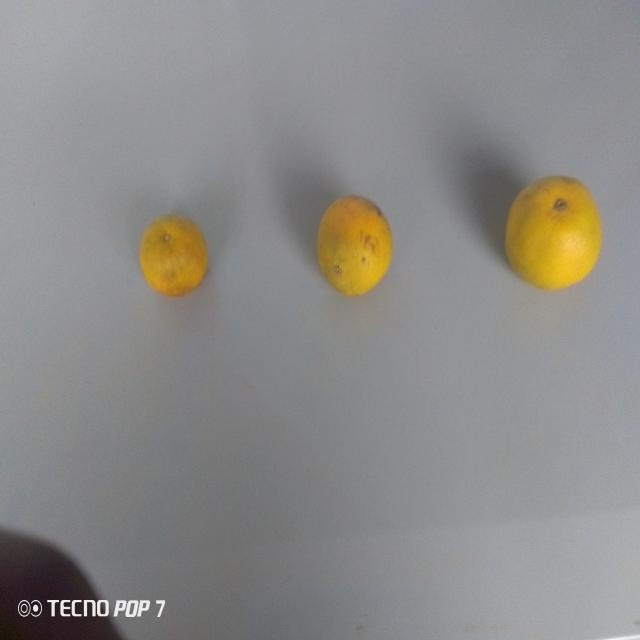agrume: (500, 174, 605, 303), (309, 191, 392, 307), (137, 209, 220, 307)
